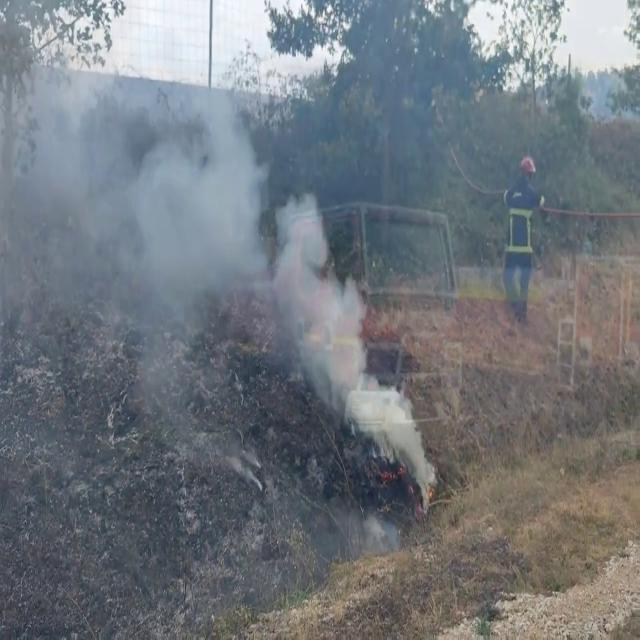Smoke: (0, 11, 267, 380), (268, 210, 434, 498)
